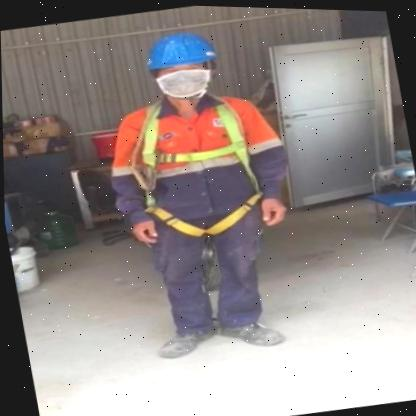person: (92, 13, 300, 374)
